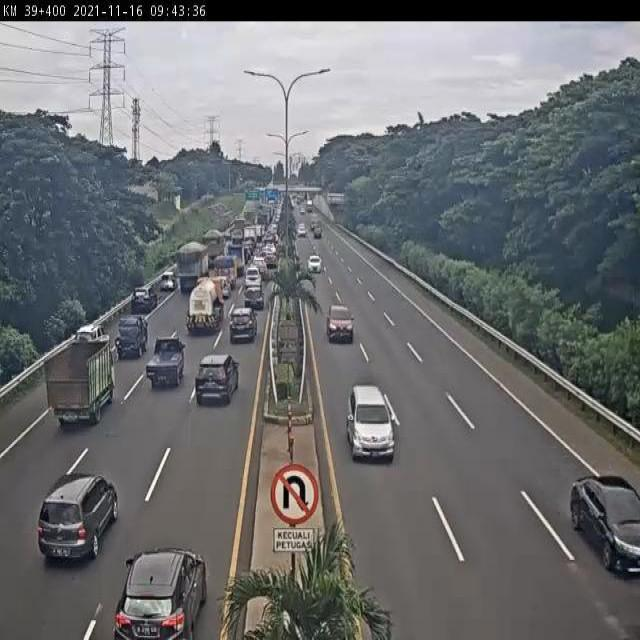car: (107, 541, 205, 640), (36, 463, 122, 573), (565, 476, 640, 572), (343, 384, 397, 459), (195, 348, 242, 409), (146, 334, 189, 394), (114, 312, 148, 359), (228, 303, 261, 345), (323, 303, 355, 344), (128, 286, 157, 314), (243, 284, 266, 311), (159, 267, 180, 292), (244, 264, 262, 291), (213, 274, 233, 298), (306, 250, 323, 274), (250, 255, 268, 276), (263, 251, 279, 268), (312, 224, 322, 239), (297, 224, 307, 237)
small truck: (38, 331, 117, 428), (215, 258, 238, 290), (226, 244, 246, 276)
truck-m-: (188, 275, 225, 337), (176, 240, 213, 291), (197, 227, 229, 269)
